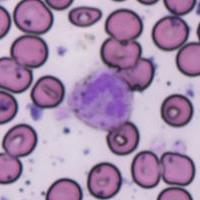N: (68, 66, 132, 130)
